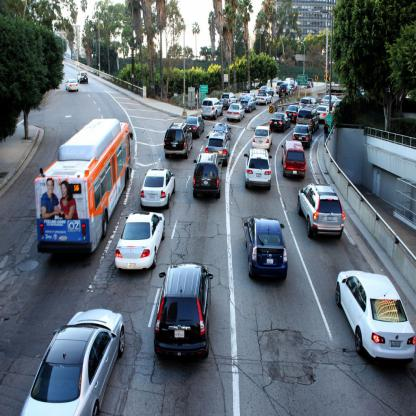Bus: (36, 118, 134, 257)
